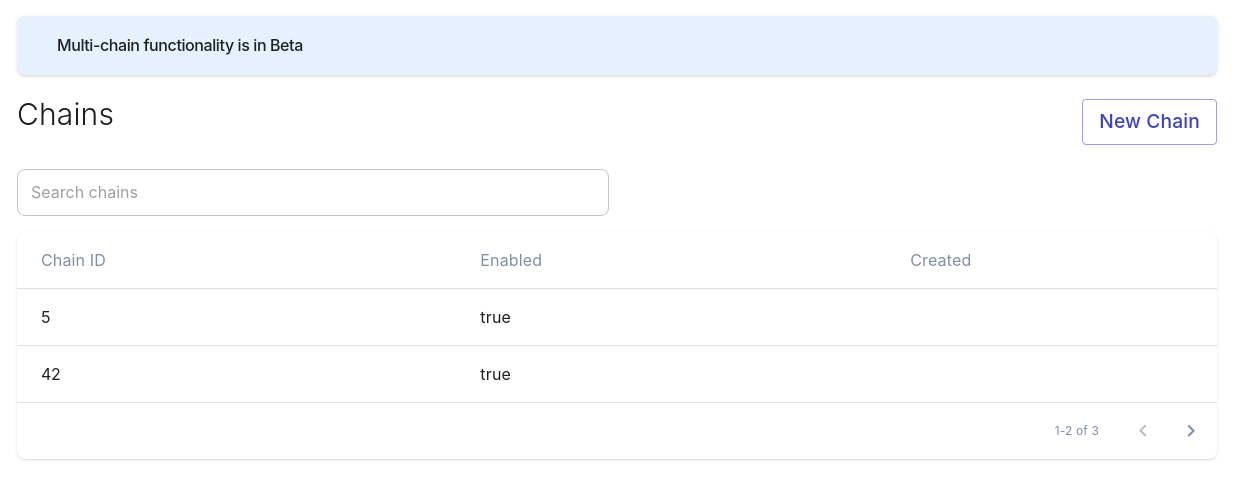
Test: ChainsScreen › can page through the list of chains
The image size is (1235, 477).
Check: the text "5" is shown, box [41,306,50,329]
Check: the text "42" is shown, box [41,363,60,386]
Click the button named "next-page".
click(1191, 431)  # box [1167,407,1215,455]
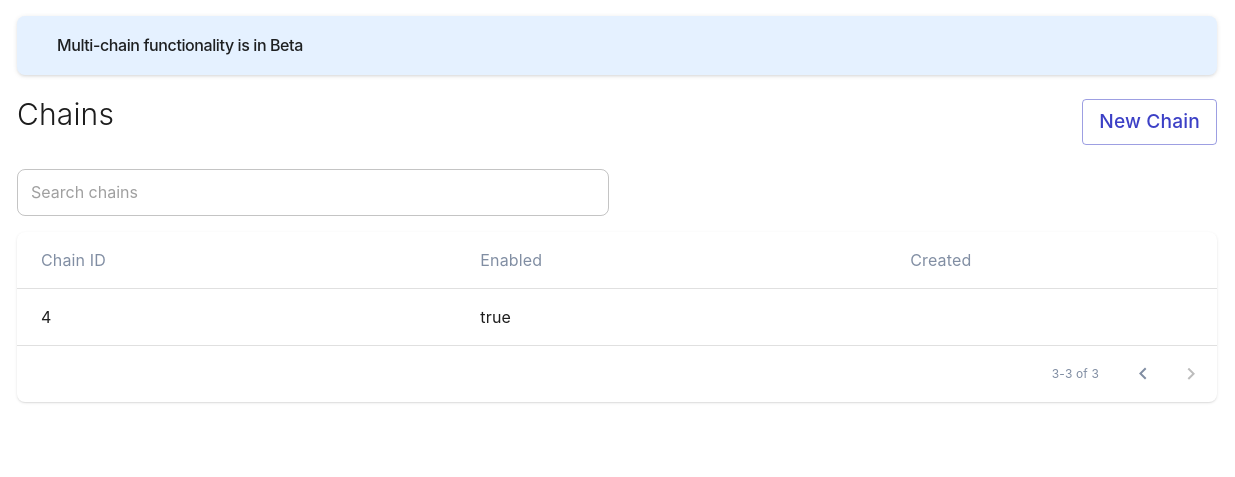
Check: the text "4" is shown, box [41,306,51,329]
Check: the text "3-3 of 3" is shown, box [1052,364,1099,384]
Check: the button named "next-page" is disabled, box [1167,350,1215,398]
Click the button named "prev-page".
click(1143, 374)  # box [1119,350,1167,398]
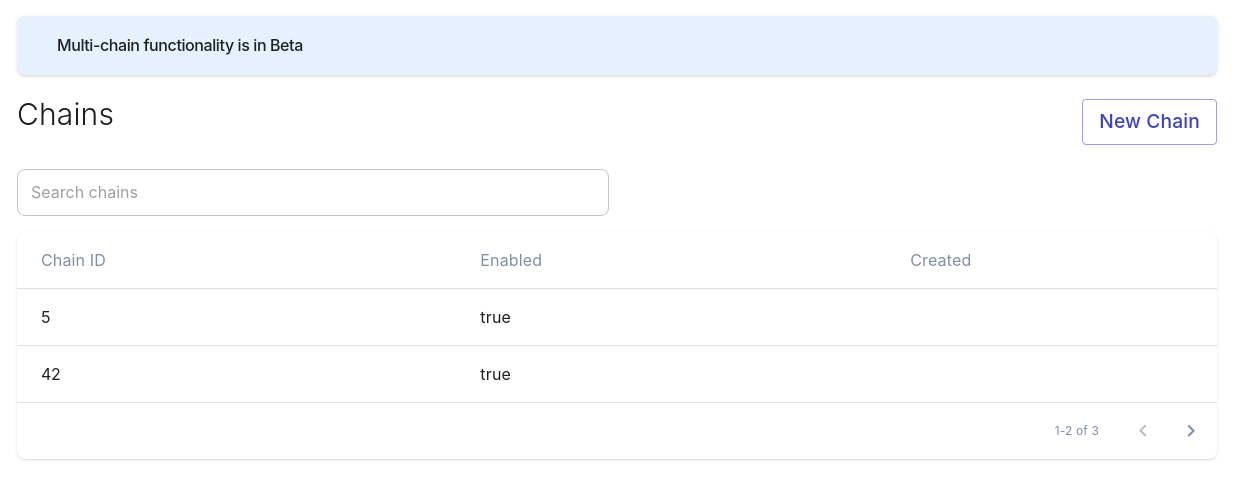
Check: the text "5" is shown, box [41,306,50,329]
Check: the text "42" is shown, box [41,363,60,386]
Check: the text "1-2 of 3" is shown, box [1055,421,1099,441]
